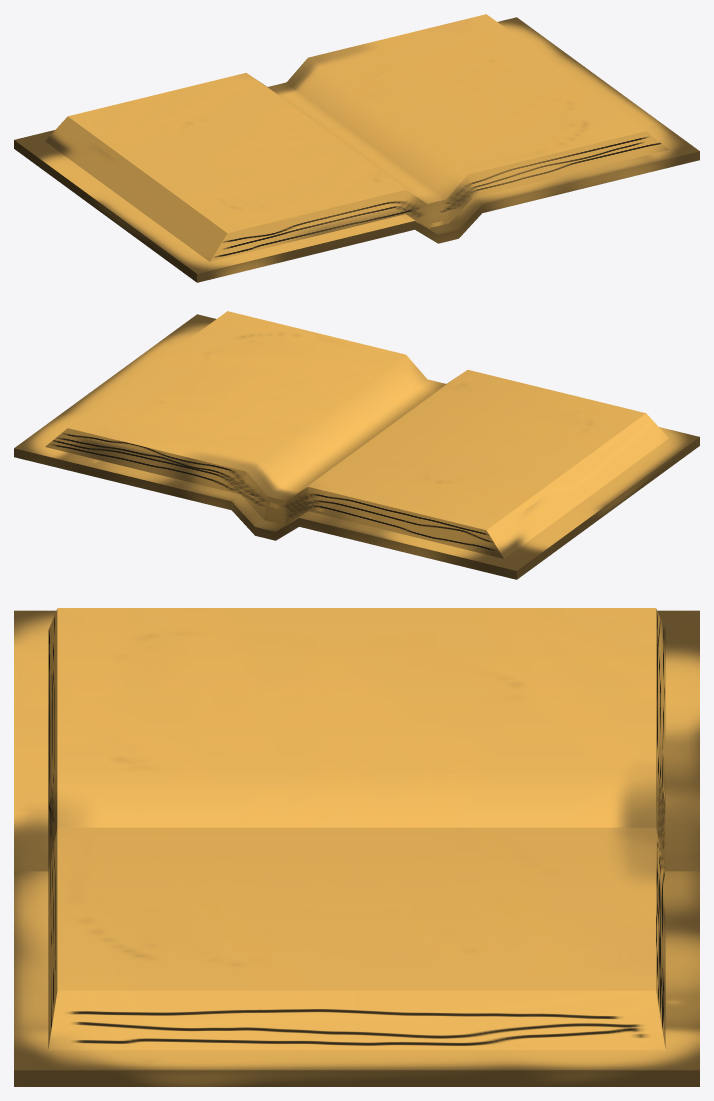
File: Book0.fbx
3 views of the same model, one above another, from view 1: azimuth 30°, elevation 25°; view 2: azimuth 150°, elevation 25°; view 3: azimuth 270°, elevation 25° (orthographic). The views are drawn at different scales.
Visible parts, largest first — view 1: Book0; view 2: Book0; view 3: Book0.
Part boxes in pixels (x1,y1,x2,y2): Book0: (14, 14, 699, 282); Book0: (14, 311, 699, 579); Book0: (14, 608, 699, 1086).
Size of the model in its own units: 38.06 by 3.65 by 24.01.
